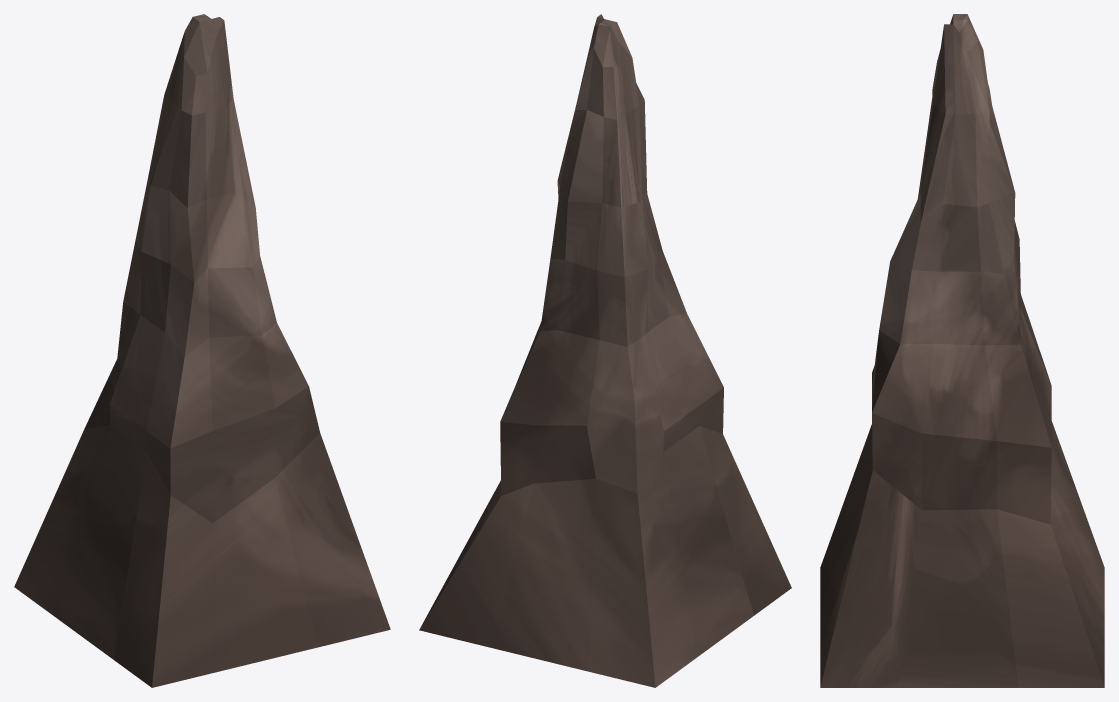
File: stalactite.fbx
3 renders of one model, left to right at view 1: azimuth 30°, elevation 25°; view 2: azimuth 150°, elevation 25°; view 3: azimuth 270°, elevation 25°, orthographic. The views are drawn at different scales.
Visible parts, largest first — view 1: stalactite; view 2: stalactite; view 3: stalactite.
Boxes of the visible parts, <box> form: stalactite: <box>14,14,390,687</box>; stalactite: <box>419,14,791,687</box>; stalactite: <box>820,14,1104,687</box>.
Size of the model in its own units: 264 by 625 by 264.
